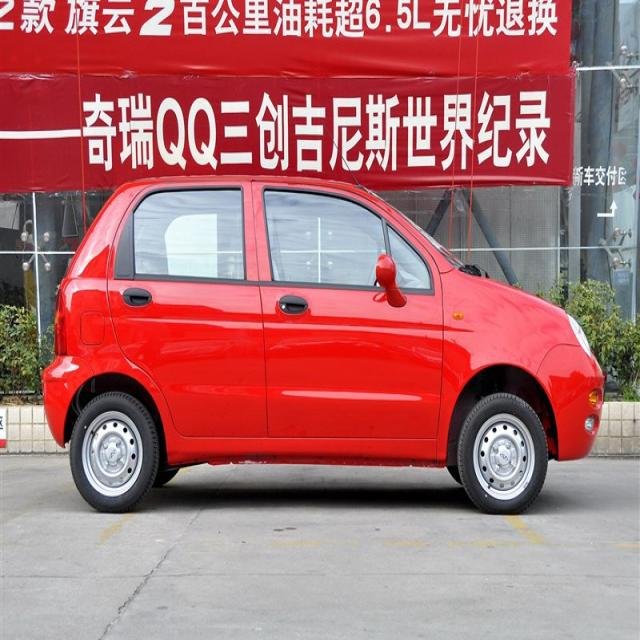back_right_side_light: (56, 286, 70, 356)
door: (107, 172, 263, 464)
front_bumper: (534, 341, 604, 464)
front_right_side_door: (250, 177, 444, 443)
front_right_side_light: (565, 309, 592, 357)
front_right_side_mirror: (375, 252, 407, 308)
rear_bumper: (40, 352, 96, 449)
wheel: (69, 390, 158, 512), (460, 393, 547, 512)
